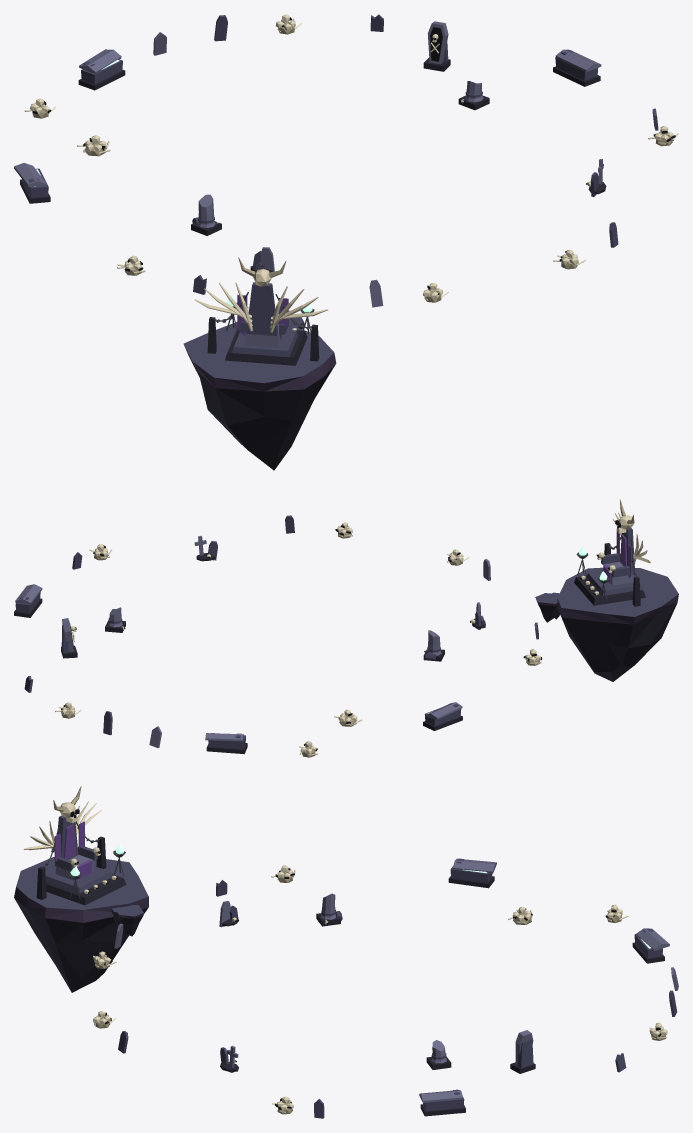
Rendered from Totenreich_Props.fbx.
3 views of the same model, one above another, from view 1: azimuth 30°, elevation 25°; view 2: azimuth 150°, elevation 25°; view 3: azimuth 270°, elevation 25° (orthographic). The views are drawn at different scales.
Parts seen in each view (by area): view 1: Totenreich_Props; view 2: Totenreich_Props; view 3: Totenreich_Props.
Part boxes in pixels (x1,y1,x2,y2): Totenreich_Props: (14, 14, 678, 470); Totenreich_Props: (14, 499, 678, 757); Totenreich_Props: (14, 786, 678, 1118).
Bounding box in the file's own units: 34.29 × 11.96 × 37.22.
